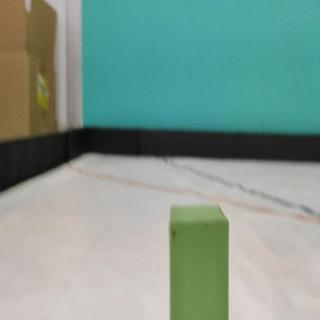greenbox: (167, 201, 232, 320)
